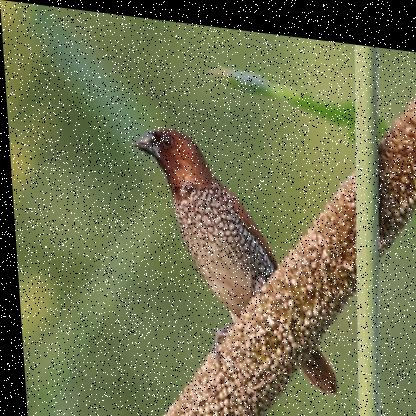Burung: (130, 121, 334, 387)
